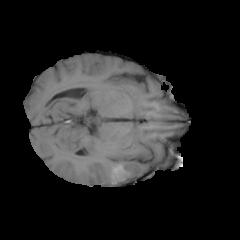glioma: (103, 154, 148, 186)
